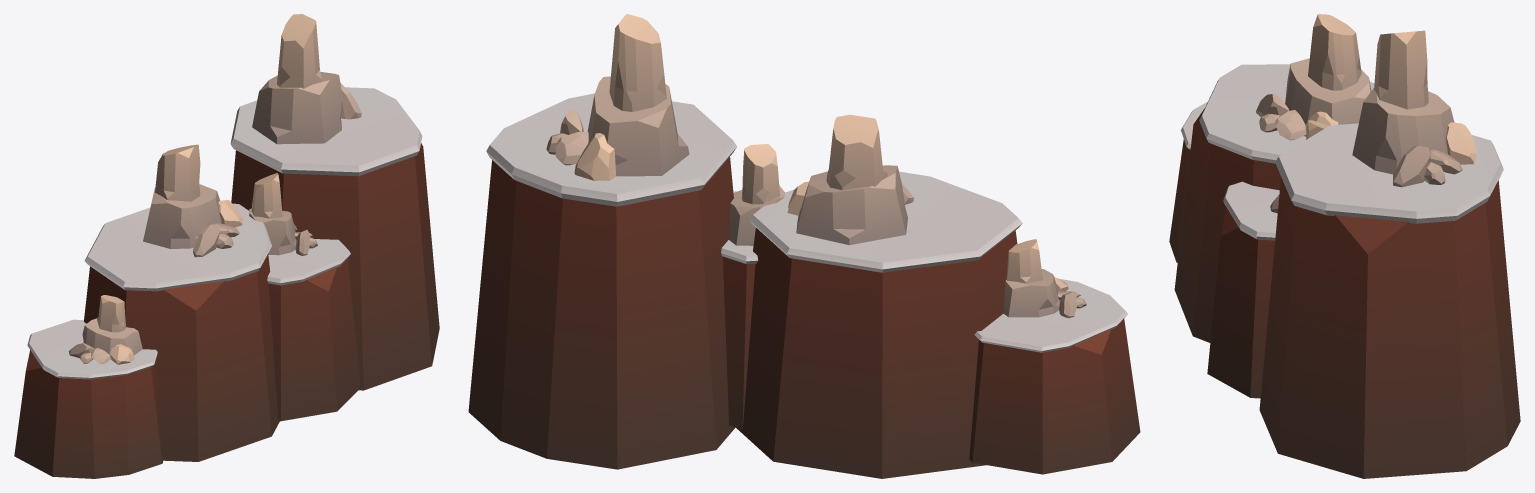
File: EniviromentGameJam01.fbx
3 views of the same model, side by side, from view 1: azimuth 30°, elevation 25°; view 2: azimuth 150°, elevation 25°; view 3: azimuth 270°, elevation 25° (orthographic). The views are drawn at different scales.
Parts seen in each view (by area): view 1: Circle.055, Circle.051, Circle.053, Circle.054; view 2: Circle.055, Circle.051, Circle.053, Circle.054; view 3: Circle.055, Circle.051, Circle.054, Circle.053.
Boxes of the visible parts, bbox=[...] form: Circle.055: bbox=[230, 14, 439, 390]; Circle.051: bbox=[84, 144, 279, 461]; Circle.053: bbox=[14, 295, 165, 478]; Circle.054: bbox=[249, 173, 360, 421]; Circle.055: bbox=[468, 14, 736, 469]; Circle.051: bbox=[736, 114, 1022, 478]; Circle.053: bbox=[969, 239, 1140, 474]; Circle.054: bbox=[721, 144, 784, 429]; Circle.055: bbox=[1259, 30, 1520, 478]; Circle.051: bbox=[1174, 14, 1374, 342]; Circle.054: bbox=[1207, 120, 1328, 398]; Circle.053: bbox=[1169, 101, 1207, 262].
Bounding box in the file's own units: 67187 × 45461 × 37876.
1 material, 1 textured.
